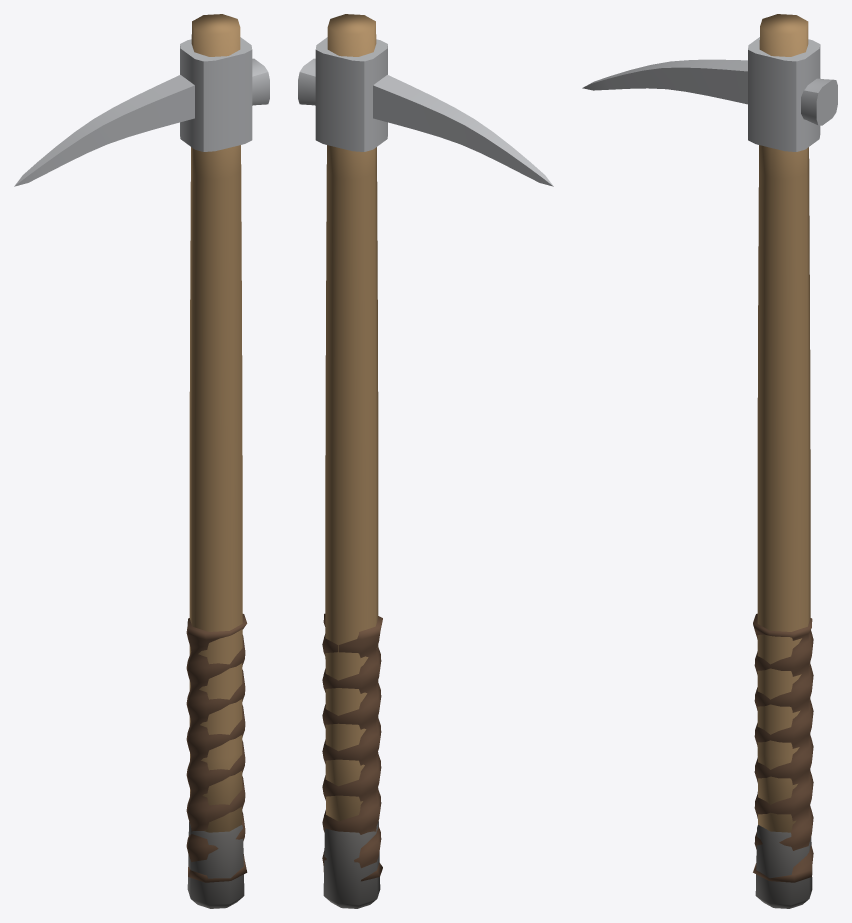
Rendered from light-pick.glb.
The picture shows the model from 3 angles, left to right: view 1: azimuth 30°, elevation 25°; view 2: azimuth 150°, elevation 25°; view 3: azimuth 330°, elevation 25°; orthographic projection.
Parts seen in each view (by area): view 1: light-pick; view 2: light-pick; view 3: light-pick.
Boxes of the visible parts, box(x1,y1,x2,y2) form: light-pick: box(14, 14, 269, 908); light-pick: box(298, 14, 553, 908); light-pick: box(582, 14, 837, 908).
Bounding box in the file's own units: 0.34 × 1.16 × 0.0711.
